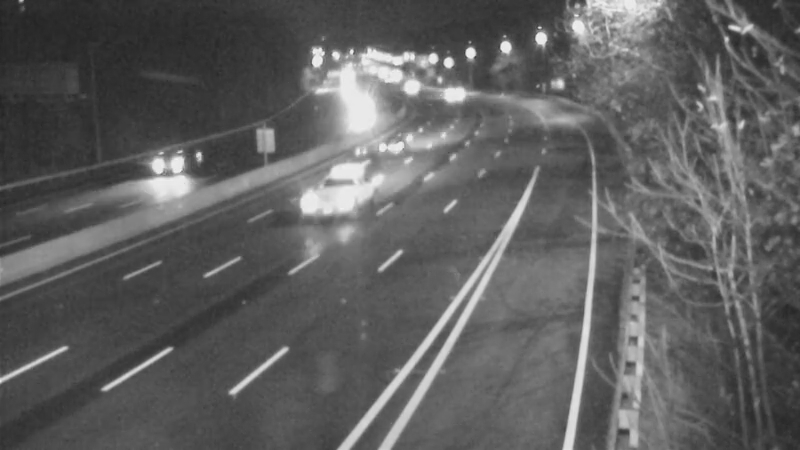vehicle: (298, 150, 378, 230), (135, 120, 215, 200), (386, 61, 436, 111), (424, 69, 474, 119), (369, 116, 419, 166), (335, 93, 385, 143)
